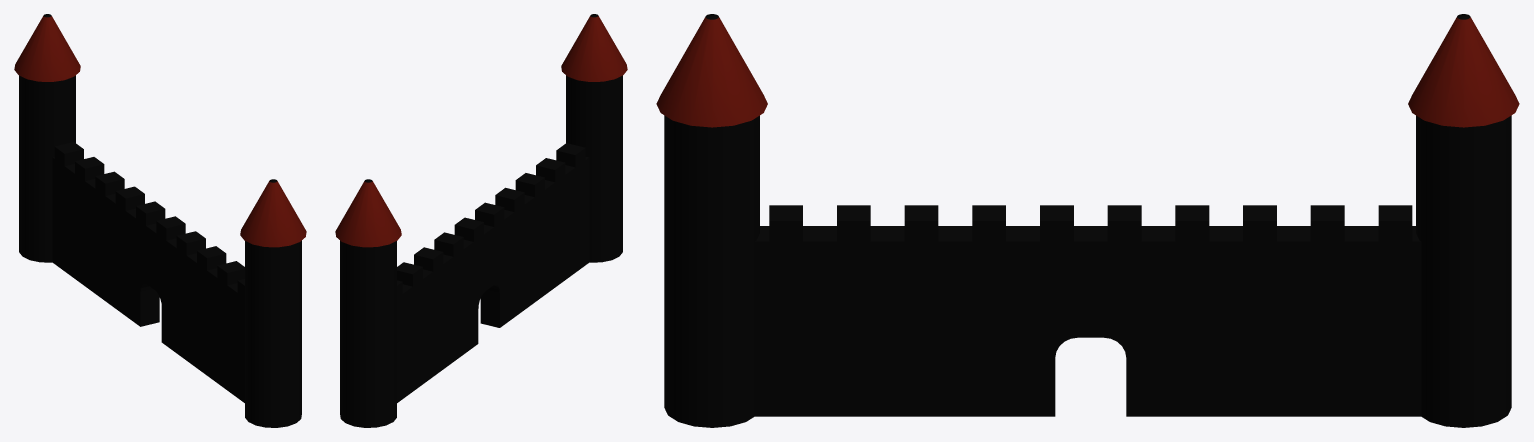
File: Wall.glb
The picture shows the model from 3 angles, left to right: view 1: azimuth 30°, elevation 25°; view 2: azimuth 150°, elevation 25°; view 3: azimuth 270°, elevation 25°; orthographic projection. The views are drawn at different scales.
Visible parts, largest first — view 1: Cylinder.002; view 2: Cylinder.002; view 3: Cylinder.002.
Part boxes in pixels (x1,y1,x2,y2): Cylinder.002: (14,14,306,427); Cylinder.002: (335,14,627,427); Cylinder.002: (656,14,1519,427).
Size of the model in its own units: 2.33 by 9.01 by 18.03.
